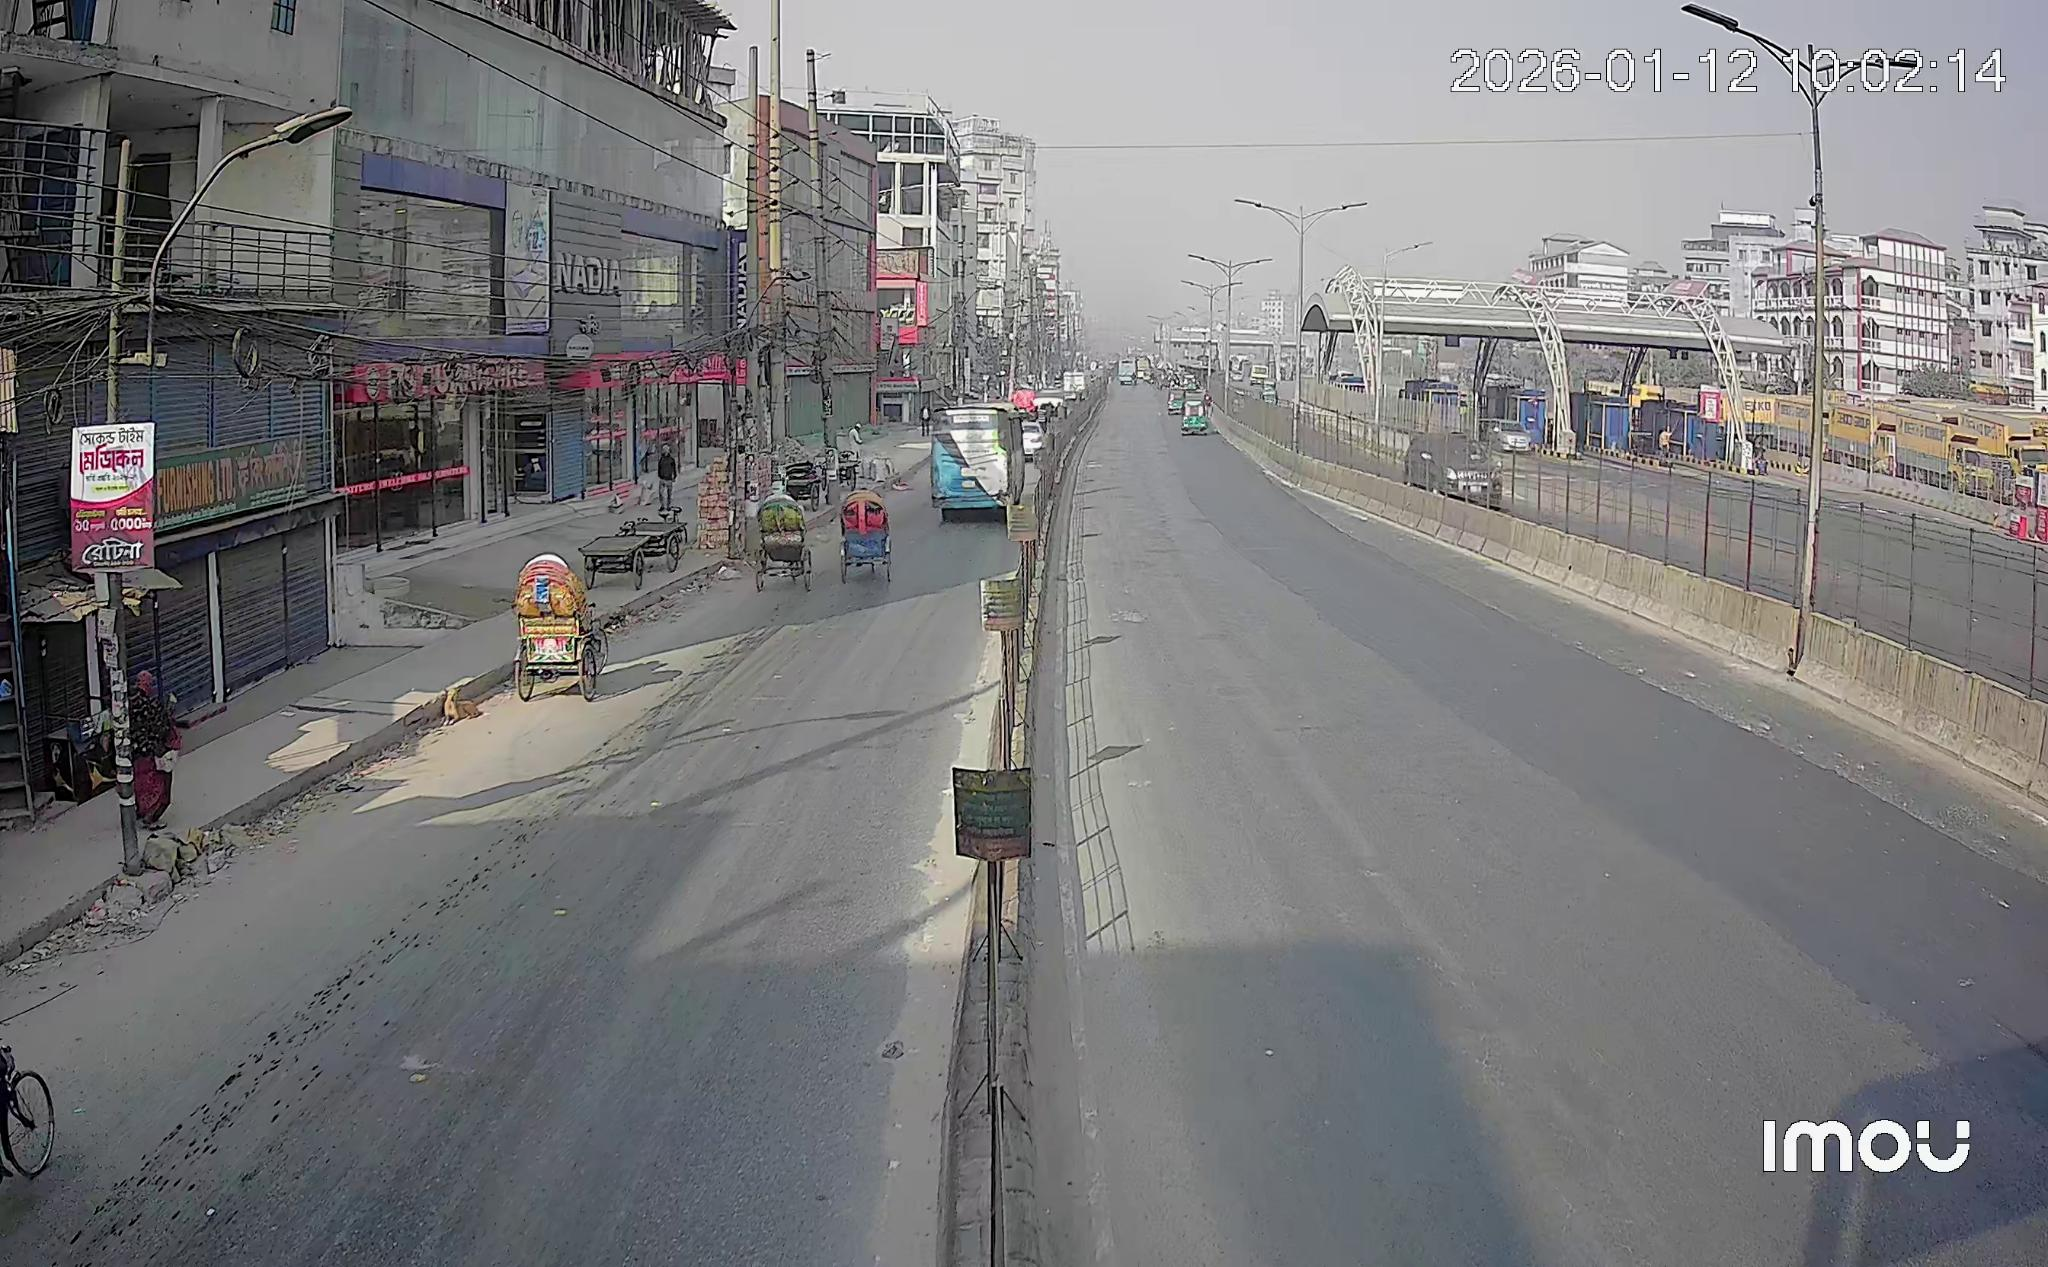Auto Rickshaw: (513, 554, 604, 699), (756, 492, 810, 591), (843, 492, 889, 581)
Bus: (932, 404, 1014, 518), (1118, 361, 1135, 386), (1137, 356, 1151, 382)
CNG-Tempo: (1182, 396, 1208, 433), (1166, 388, 1183, 416)
Jeep-SUV: (1401, 433, 1502, 508)
